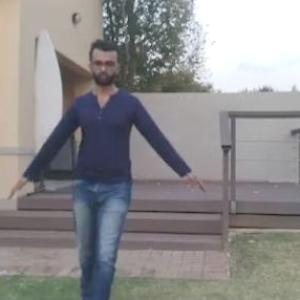land: (15, 39, 195, 295)
